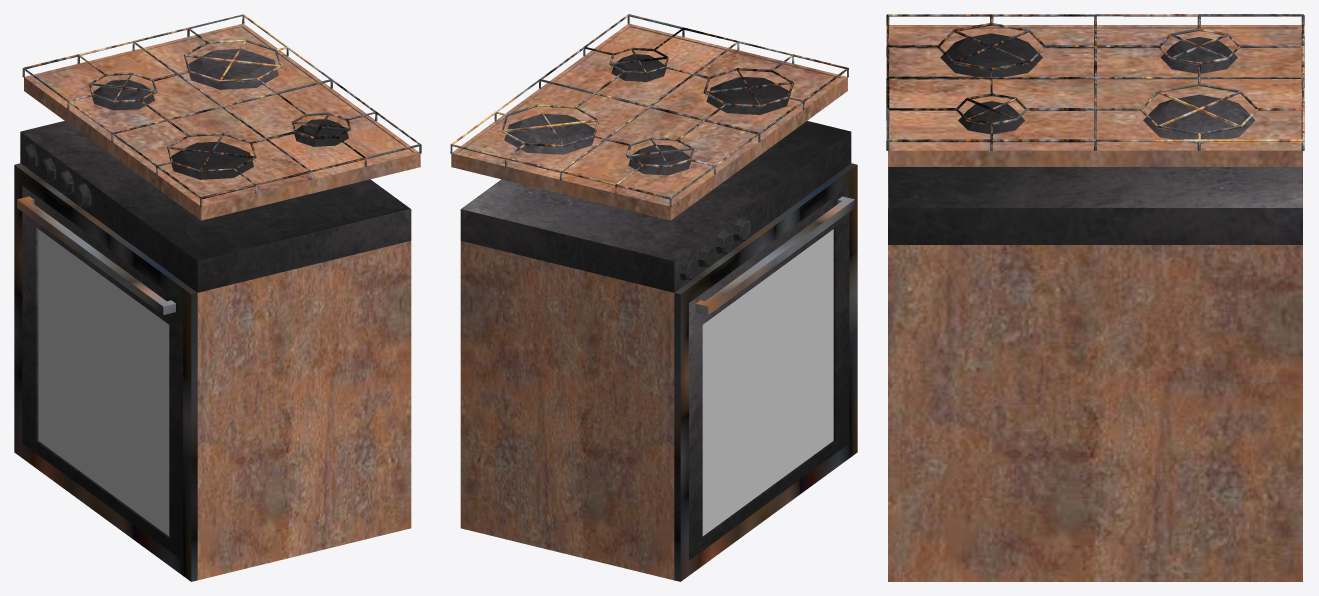
File: oven.glb
The picture shows the model from 3 angles, left to right: view 1: azimuth 30°, elevation 25°; view 2: azimuth 150°, elevation 25°; view 3: azimuth 270°, elevation 25°; orthographic projection. The views are drawn at different scales.
Parts seen in each view (by area): view 1: main.009, main.002, main.001; view 2: main.009, main.002, main.001; view 3: main.009, main.001.
Part boxes in pixels (x1=…): main.009: x1=14, y1=23, x2=420, y2=581; main.002: x1=17, y1=186, x2=182, y2=560; main.001: x1=22, y1=14, x2=421, y2=207; main.009: x1=451, y1=23, x2=857, y2=581; main.002: x1=689, y1=186, x2=854, y2=560; main.001: x1=450, y1=14, x2=848, y2=207; main.009: x1=888, y1=25, x2=1302, y2=581; main.001: x1=886, y1=14, x2=1304, y2=150.
Bounding box in the file's own units: 0.8687 × 1.31 × 1.11.
5 materials, 4 textured.
